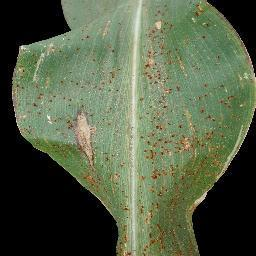Corn_Common_Rust: (8, 1, 254, 256)
